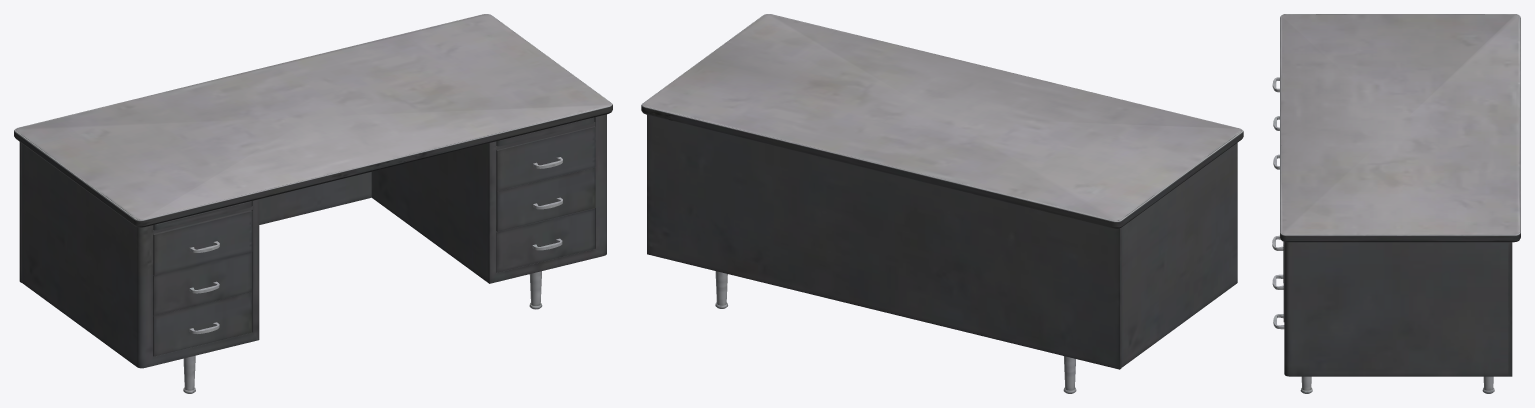
The model's file is metal_office_desk.glb.
3 views of the same model, side by side, from view 1: azimuth 30°, elevation 25°; view 2: azimuth 150°, elevation 25°; view 3: azimuth 270°, elevation 25° (orthographic). The views are drawn at different scales.
Visible parts, largest first — view 1: metal_office_desk_drawer_06; view 2: metal_office_desk_drawer_06; view 3: metal_office_desk_drawer_06.
Part boxes in pixels (left/top/right/bottom): metal_office_desk_drawer_06: left=14, top=14, right=612, bottom=393; metal_office_desk_drawer_06: left=641, top=14, right=1243, bottom=393; metal_office_desk_drawer_06: left=1272, top=14, right=1520, bottom=393.
Bounding box in the file's own units: 2 × 0.7874 × 0.9471.
1 material, 1 textured.
